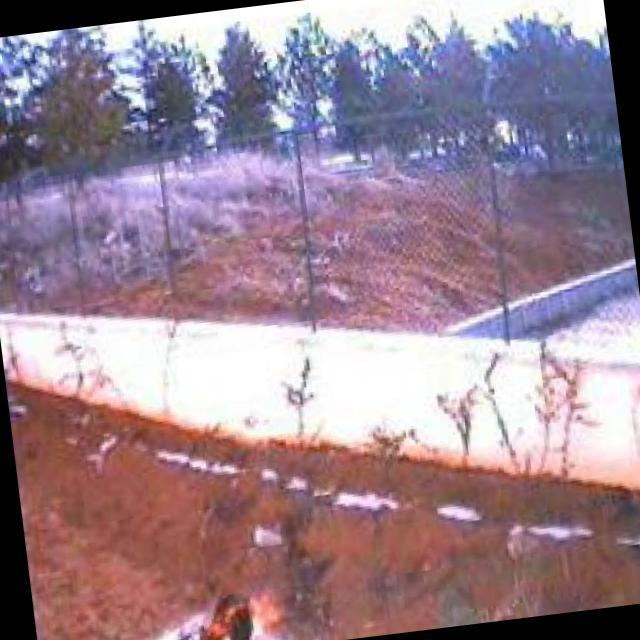Fire: (163, 585, 301, 640)
